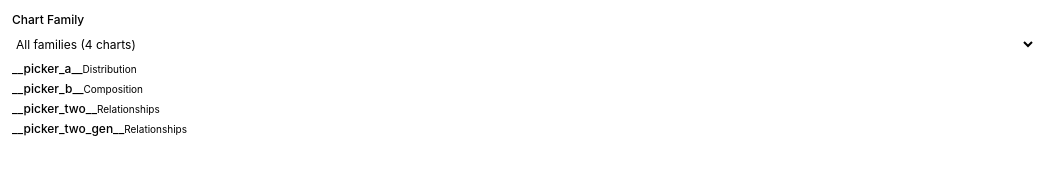
ChartPicker › shows an empty-state message when the selected family has no registered charts
The image size is (1048, 172).
Select "3D (0)" in the dropdown at (524, 44), box [12,36,1036,53]
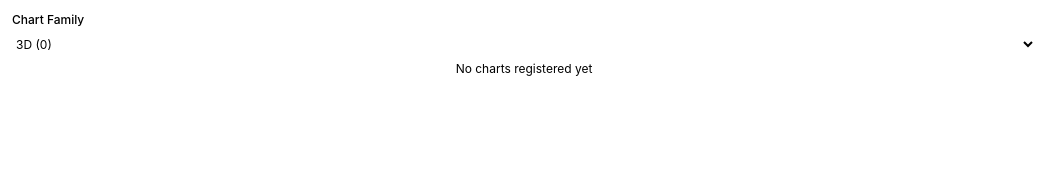
Result: the text "No charts registered yet" is shown at [456,61,592,76]
